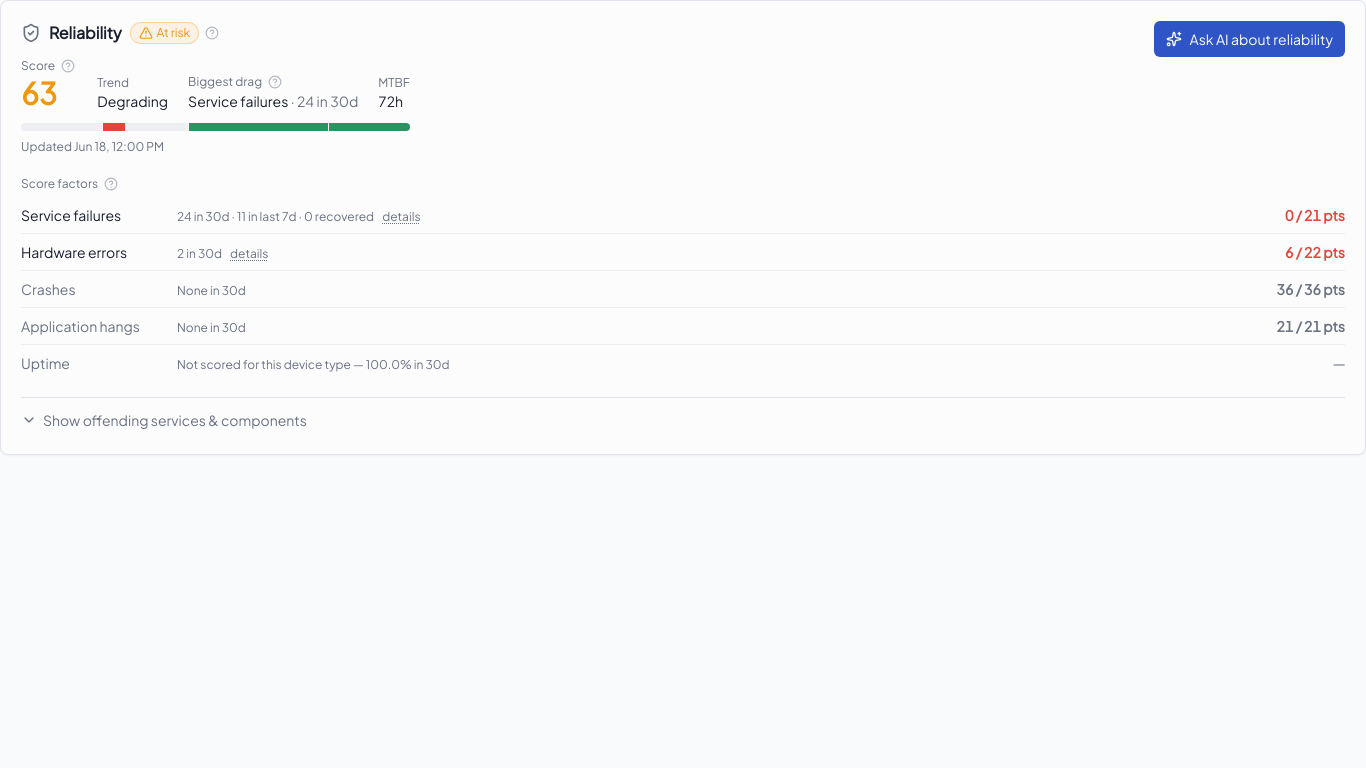
Scenario: DeviceReliabilityPanel › expands the offenders drill-down from a problem row details link
The image size is (1366, 768).
Click the button with test id "reliability-factor-details-serviceFailures": (401, 217) [382,209,420,225]
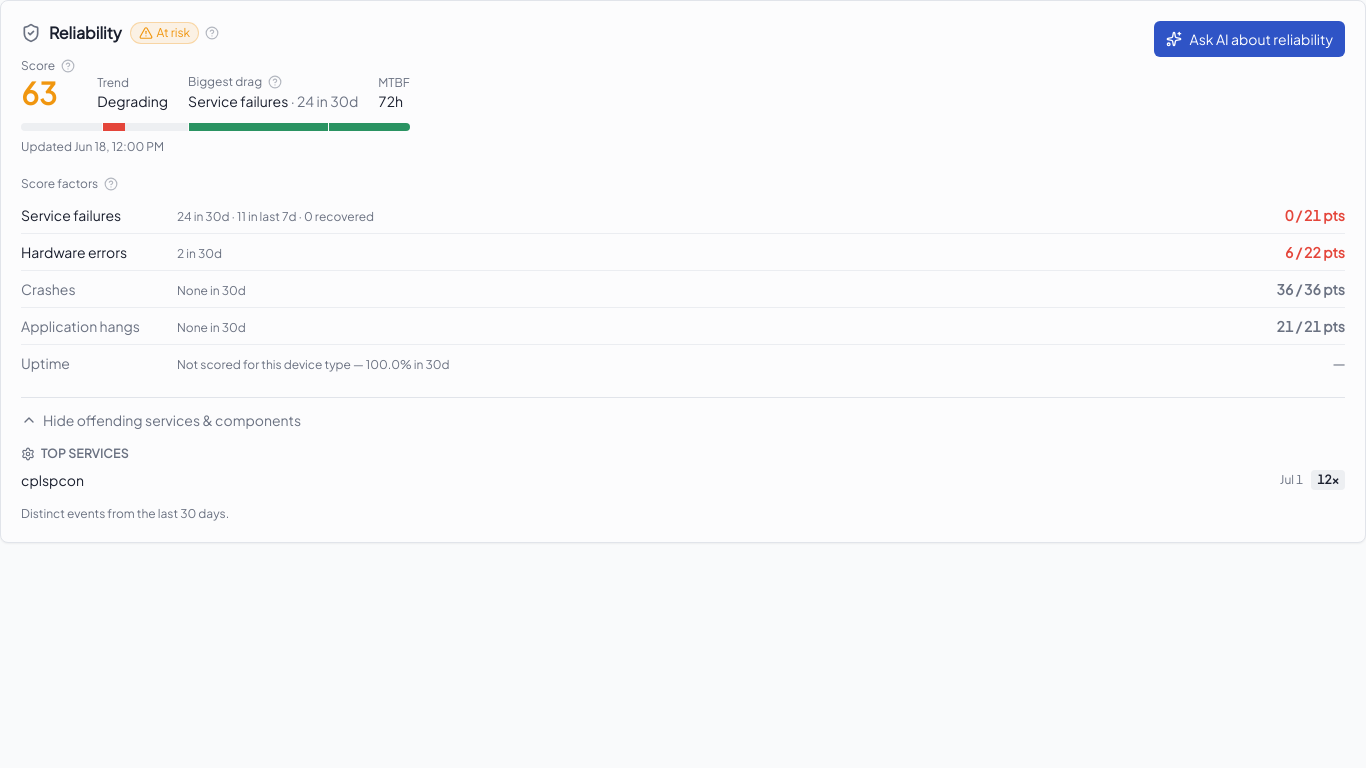
expect the text "cplspcon" is shown: met, box [21,471,84,489]
expect the button with test id "reliability-factor-details-serviceFailures" is gone: met
